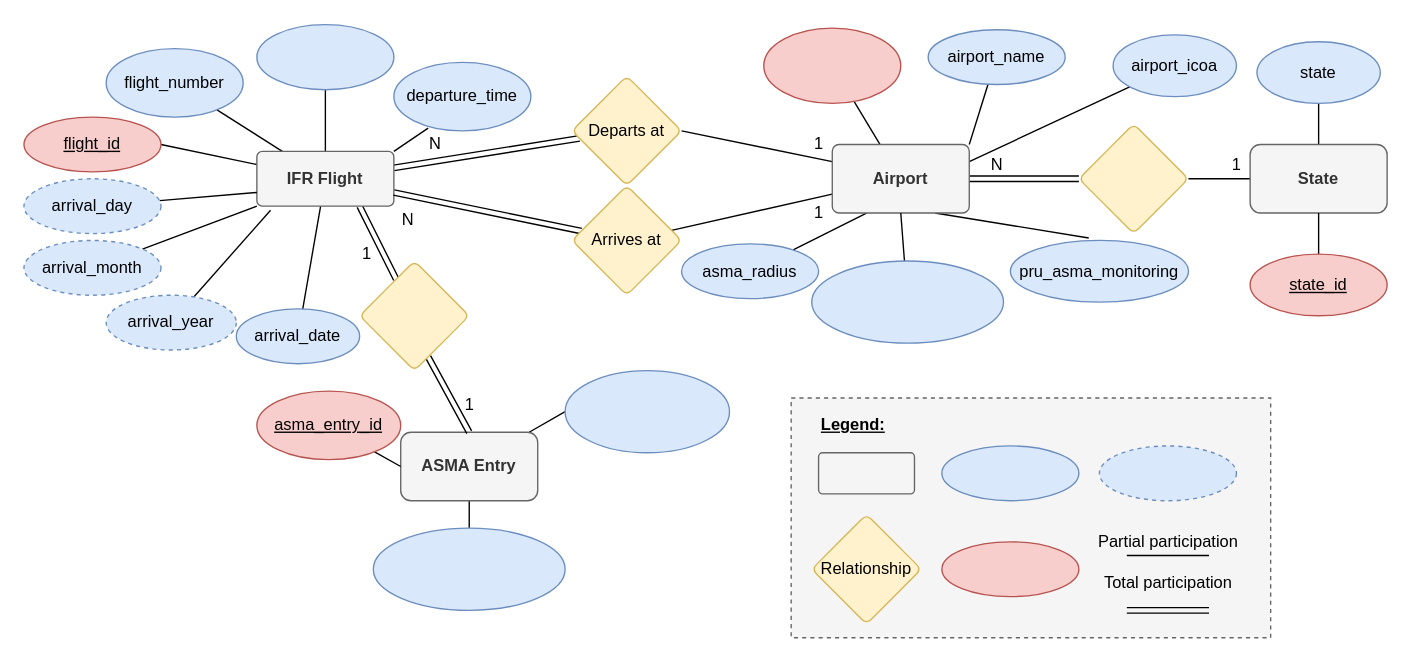
The diagram is 1411 pixels wide and 662 high, and some of its shapes have lost their labels. Each missing label, with the centre of its shape:
"additional_asma_time" goes at (x=468, y=568).
"airport_id" goes at (x=831, y=65).
"arrival_time" goes at (x=325, y=56).
"asma_entry_time" goes at (x=647, y=411).
"Attribute" goes at (x=1010, y=473).
"Derived Attribute" goes at (x=1167, y=473).
"Entity" goes at (x=865, y=472).
"Has" goes at (x=413, y=315).
"Key Attribute" goes at (x=1010, y=568).
"Located in" goes at (x=1133, y=178).
"unimpeded_asma_time" goes at (x=907, y=301).
